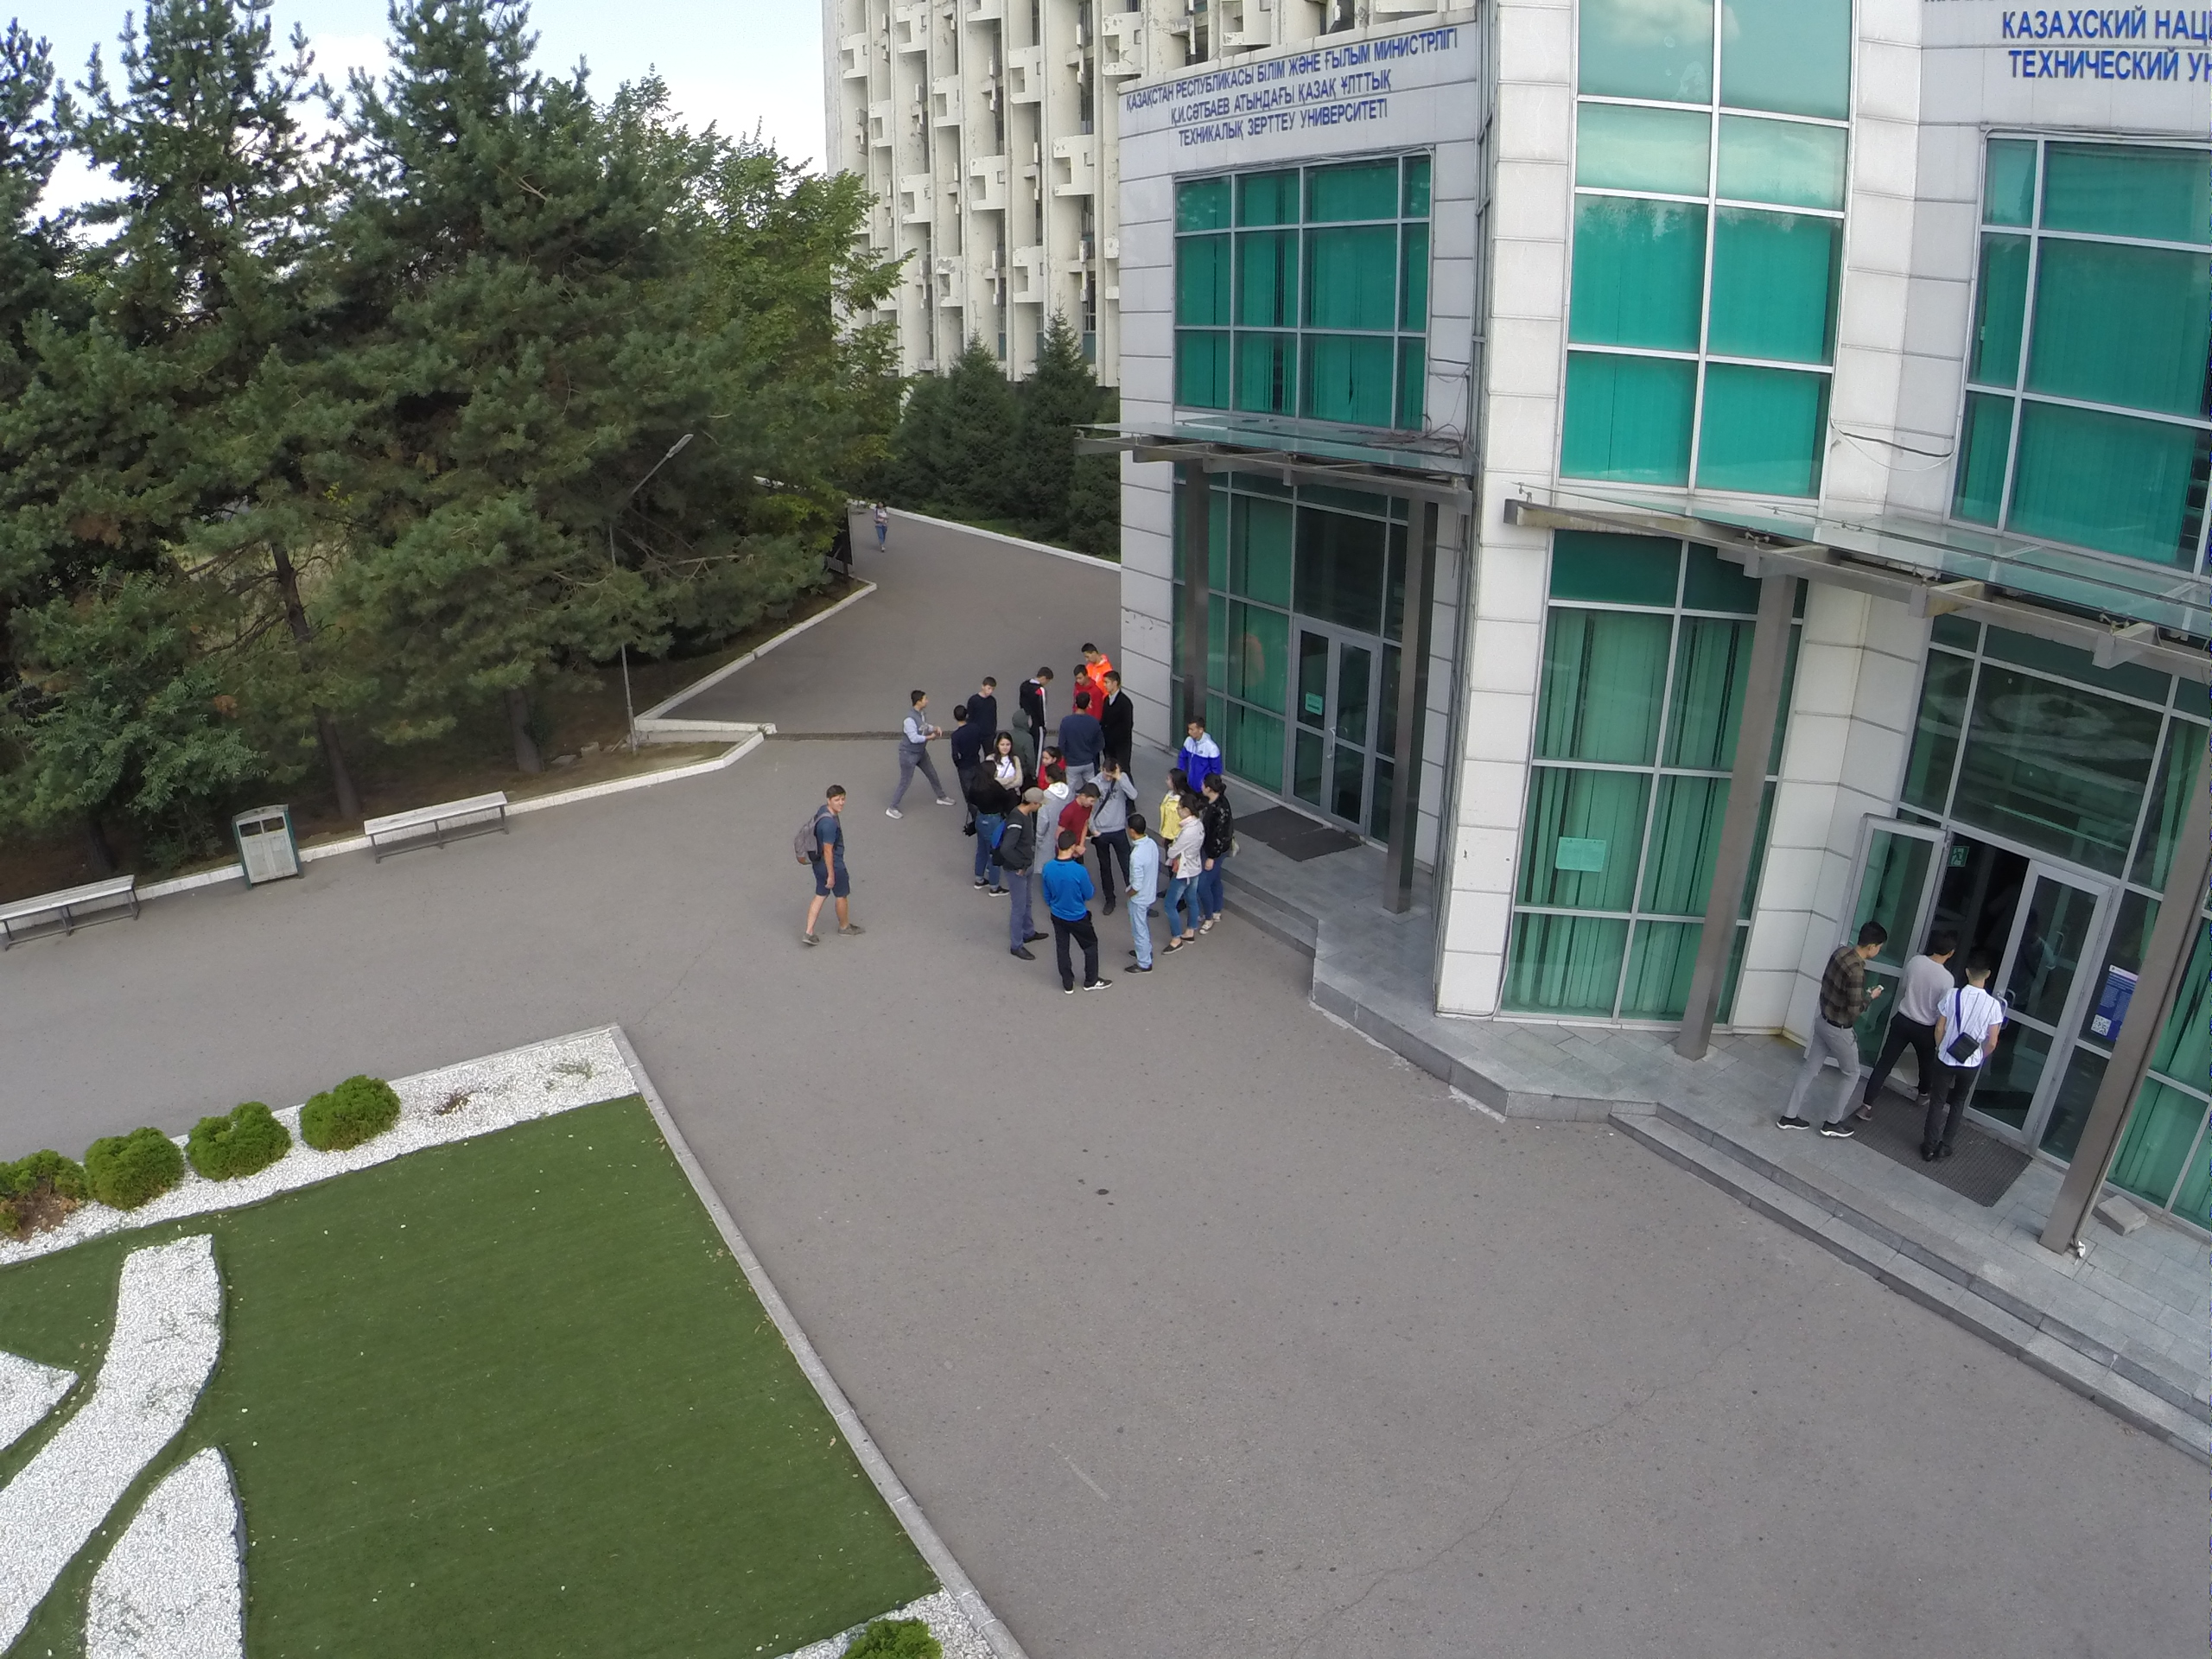person: (1771, 911, 1883, 1141), (785, 781, 870, 949), (1940, 955, 2005, 1168), (1888, 933, 1950, 1116), (1043, 836, 1109, 1003), (881, 689, 955, 822), (1002, 789, 1049, 969), (1122, 812, 1161, 975), (1093, 762, 1135, 909), (1168, 794, 1199, 949), (1199, 777, 1230, 935), (973, 764, 1007, 893), (1103, 669, 1142, 759), (951, 702, 979, 824), (1064, 692, 1103, 769), (1026, 664, 1053, 750), (1180, 714, 1221, 771), (974, 673, 999, 745), (1064, 784, 1101, 831), (996, 735, 1024, 788), (868, 498, 891, 551), (1075, 666, 1096, 703), (1162, 767, 1189, 795), (1084, 639, 1103, 674)
